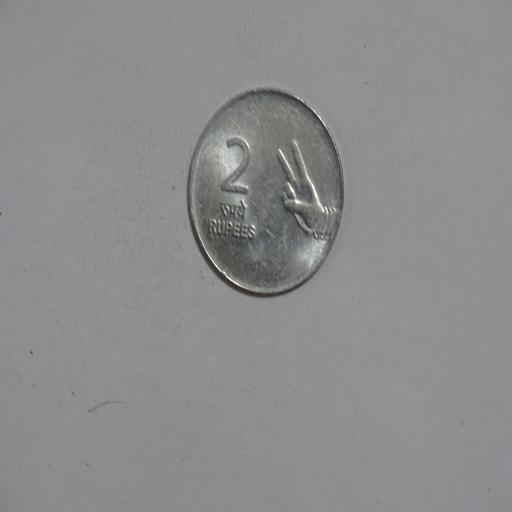rupee2: (186, 89, 344, 297)
